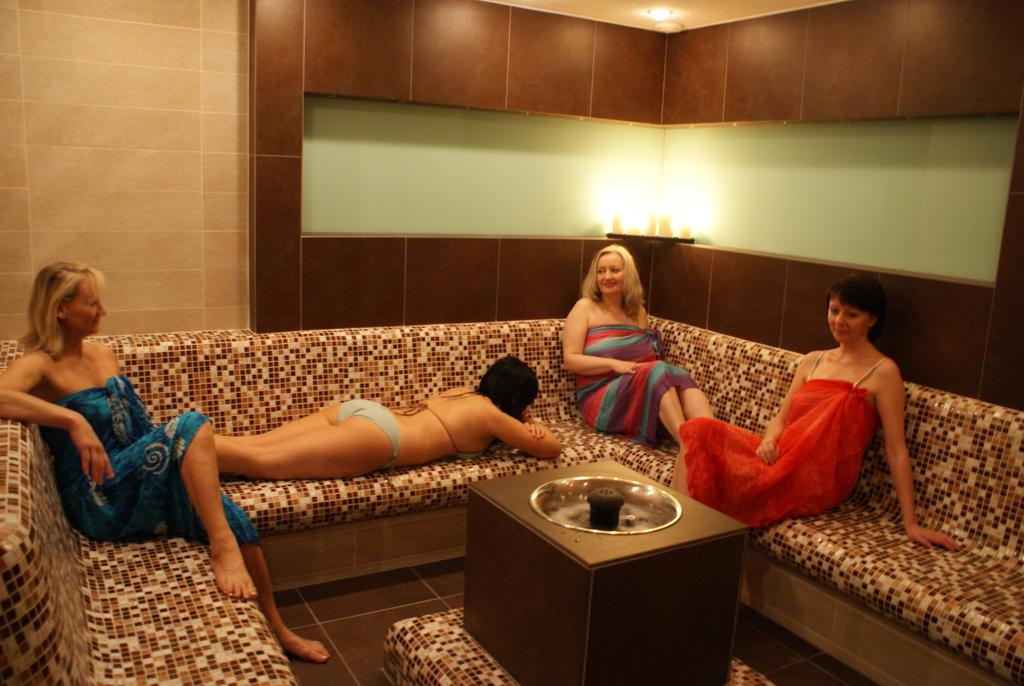face: (66, 276, 107, 334), (827, 290, 868, 343), (595, 252, 625, 294)
